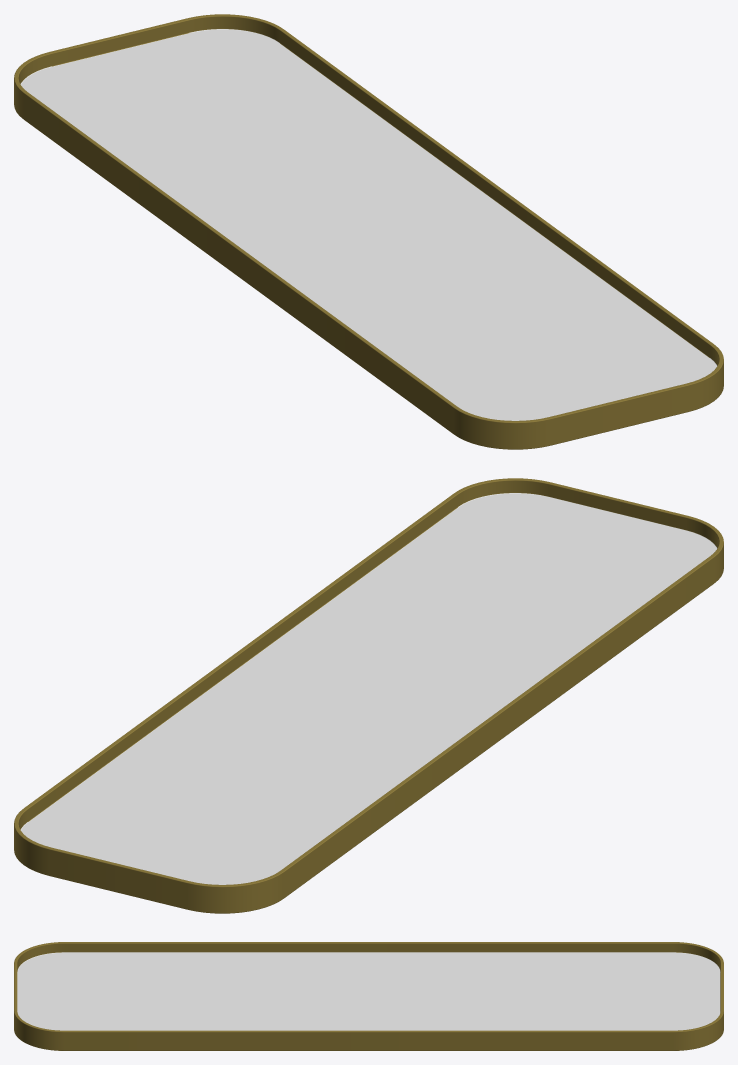
The model's file is Espelho.fbx.
3 views of the same model, one above another, from view 1: azimuth 30°, elevation 25°; view 2: azimuth 150°, elevation 25°; view 3: azimuth 270°, elevation 25° (orthographic). The views are drawn at different scales.
Parts seen in each view (by area): view 1: Mirror Ibiracu II; view 2: Mirror Ibiracu II; view 3: Mirror Ibiracu II.
Part boxes in pixels (box(x1,y1,x2,y2)): Mirror Ibiracu II: box(14, 14, 723, 449); Mirror Ibiracu II: box(14, 478, 723, 913); Mirror Ibiracu II: box(14, 942, 723, 1050).
Bounding box in the file's own units: 30 × 3 × 100.
